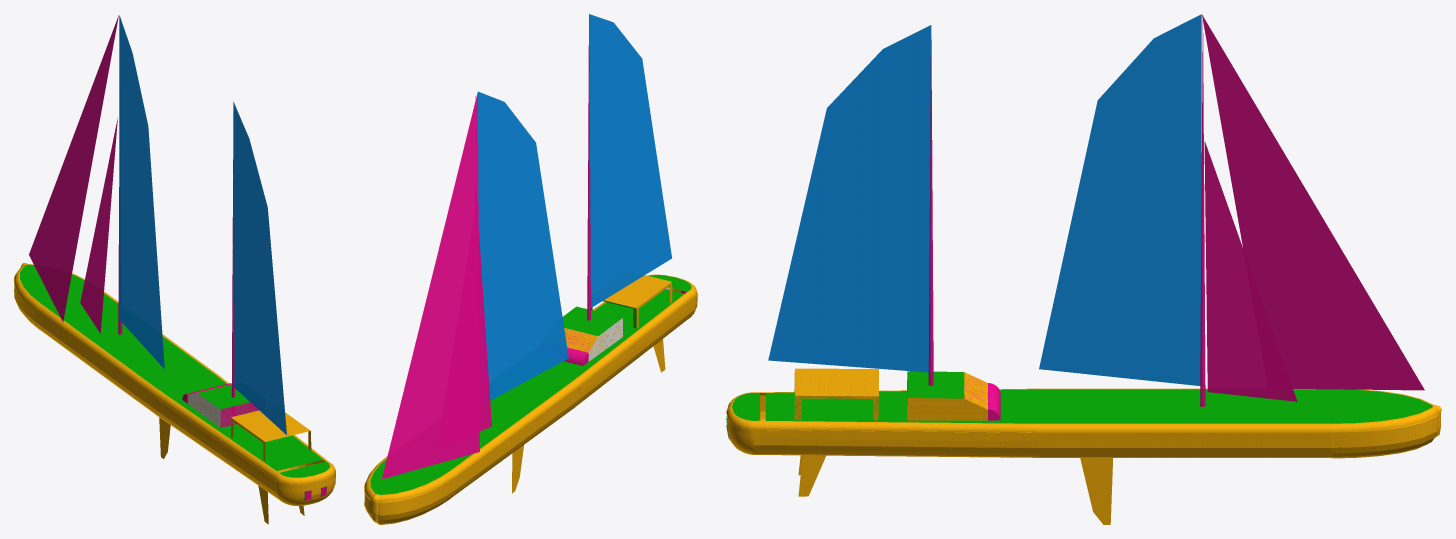
The model's file is TARA_GENOIS_TRIBORD.dae.
3 renders of one model, left to right at view 1: azimuth 30°, elevation 25°; view 2: azimuth 150°, elevation 25°; view 3: azimuth 270°, elevation 25°, orthographic. The views are drawn at different scales.
Parts seen in each view (by area): view 1: SketchUp (×12); view 2: SketchUp (×11); view 3: SketchUp (×12).
Boxes of the visible parts, <box> form: SketchUp (×12): <box>14,15,335,505</box>; SketchUp (×11): <box>364,14,697,524</box>; SketchUp (×12): <box>727,14,1438,524</box>.
Bounding box in the file's own units: 27196 × 202831 × 158988.
